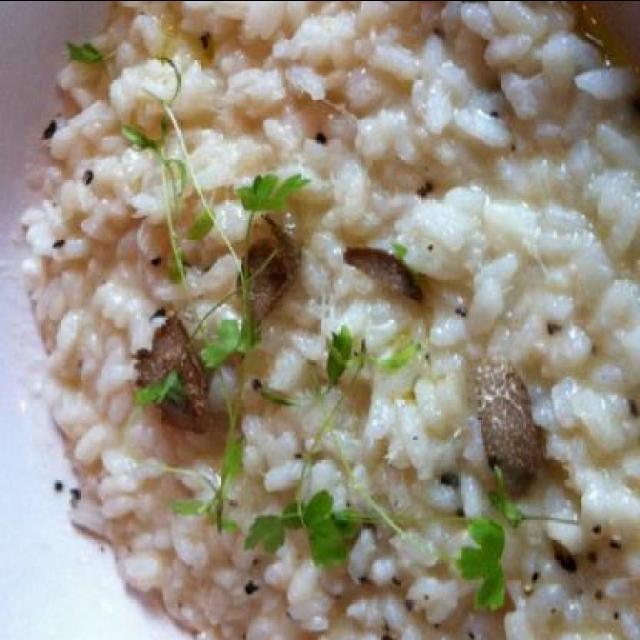Risotto: (17, 8, 632, 630)
